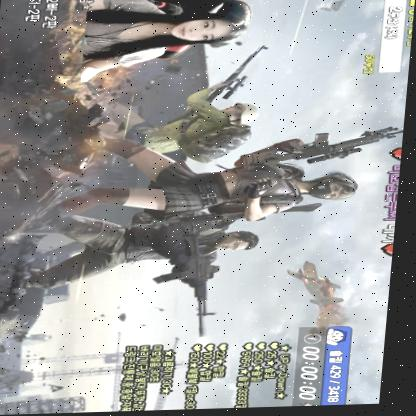streamer: (80, 0, 252, 83)
